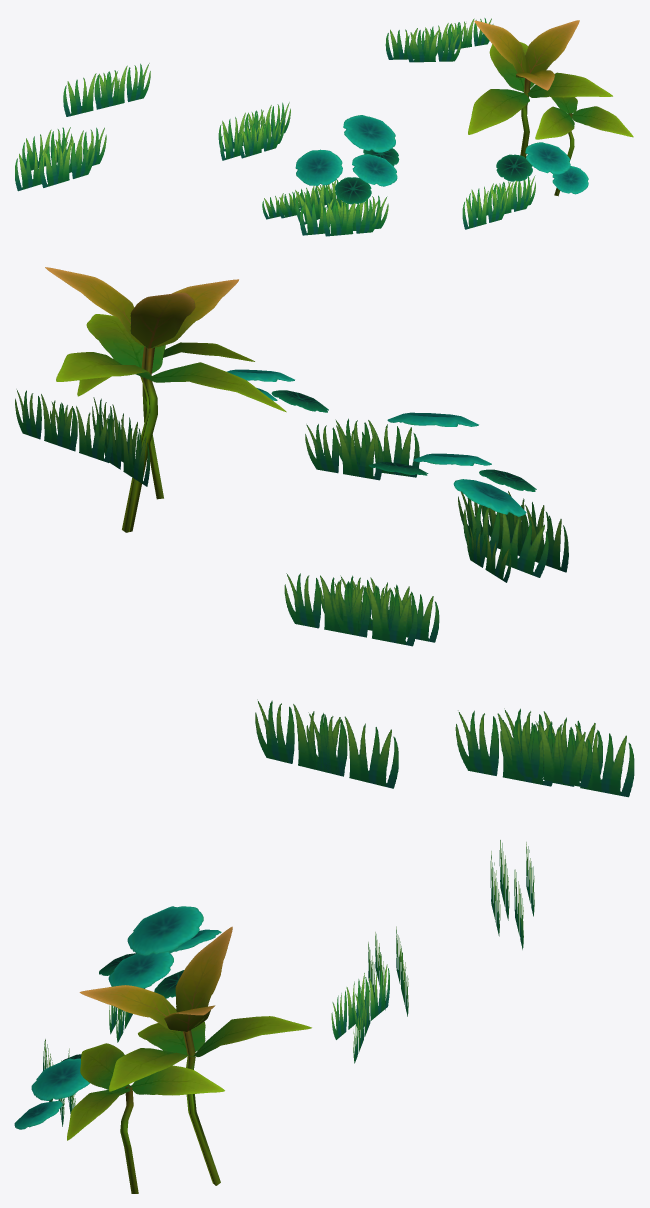
File: aquarium-plant.glb
3 renders of one model, top to bottom at view 1: azimuth 30°, elevation 25°; view 2: azimuth 150°, elevation 25°; view 3: azimuth 270°, elevation 25°, orthographic. The views are drawn at different scales.
Parts seen in each view (by area): view 1: Minimassyurumu49__mAquariumPlant; view 2: Minimassyurumu49__mAquariumPlant; view 3: Minimassyurumu49__mAquariumPlant.
Boxes of the visible parts, x1,y1,x2,y2 form: Minimassyurumu49__mAquariumPlant: [15, 18, 633, 236]; Minimassyurumu49__mAquariumPlant: [15, 267, 634, 797]; Minimassyurumu49__mAquariumPlant: [14, 840, 534, 1193].
Bounding box in the file's own units: 1 × 0.3316 × 0.7953.
Materials: 1 (1 with a texture image).
